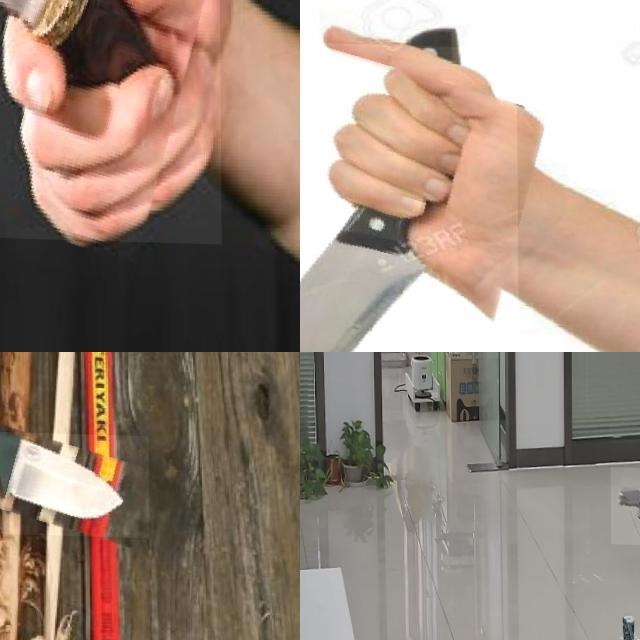-: (300, 37, 519, 352), (0, 0, 220, 242), (0, 429, 148, 535)
gun-knife-thesis - v11 Yolov5 augmented: (610, 464, 640, 543)
